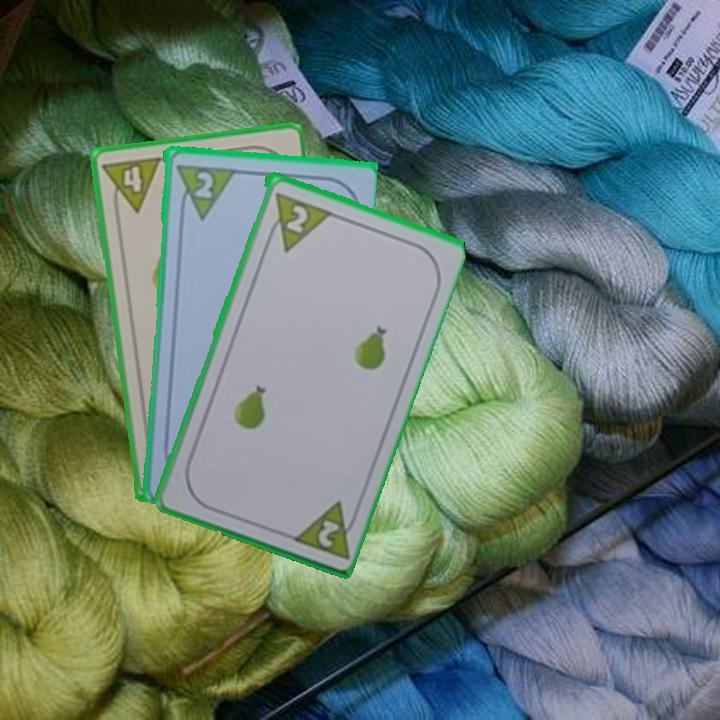2p: (286, 496, 362, 561), (261, 188, 332, 255), (171, 160, 236, 221)
4p: (99, 153, 164, 218)
